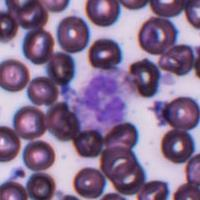N: (76, 70, 128, 127)
